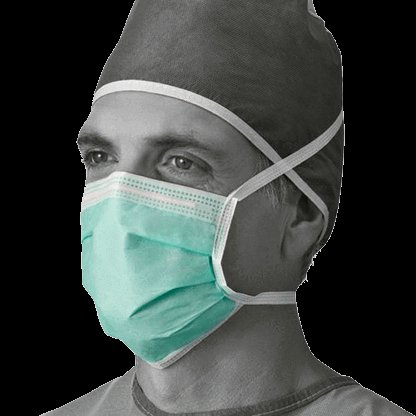mask: (58, 6, 343, 368)
